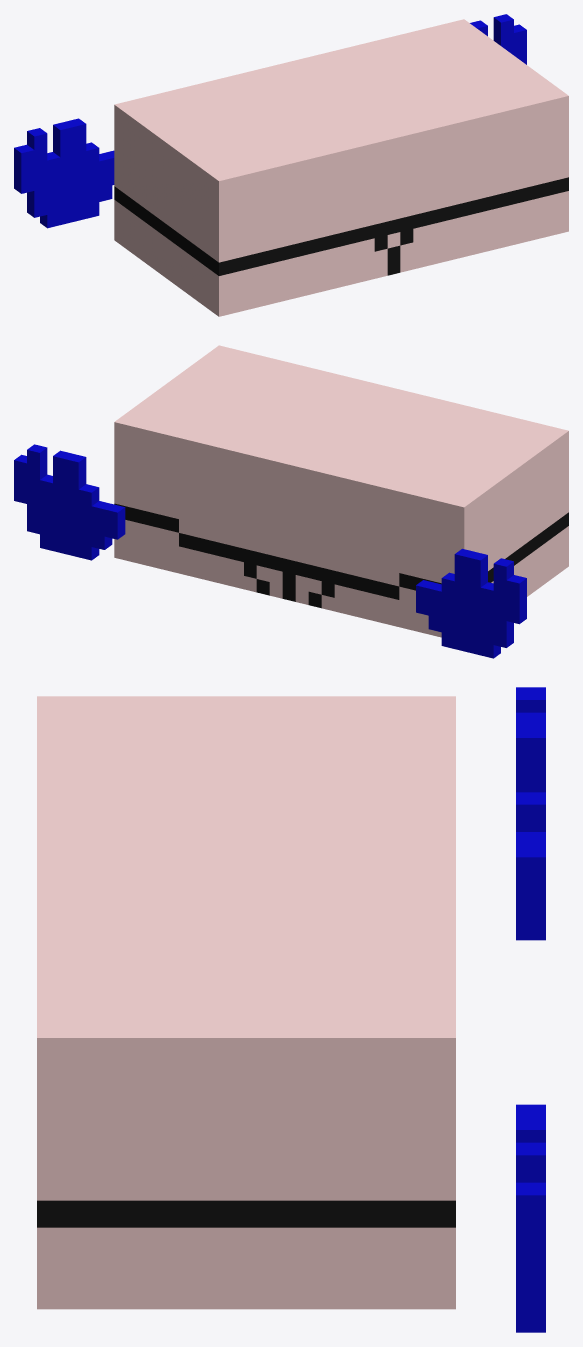
The model's file is Tofu_Full.FBX.
The picture shows the model from 3 angles, top to bottom: view 1: azimuth 30°, elevation 25°; view 2: azimuth 150°, elevation 25°; view 3: azimuth 270°, elevation 25°; orthographic projection. The views are drawn at different scales.
Visible parts, largest first — view 1: default; view 2: default; view 3: default.
Boxes of the visible parts, box(x1,y1,x2,y2) form: default: box(14, 14, 568, 316); default: box(14, 345, 568, 658); default: box(37, 687, 545, 1332).
Size of the model in its own units: 3.9 by 1 by 1.7.
1 material, 1 textured.
